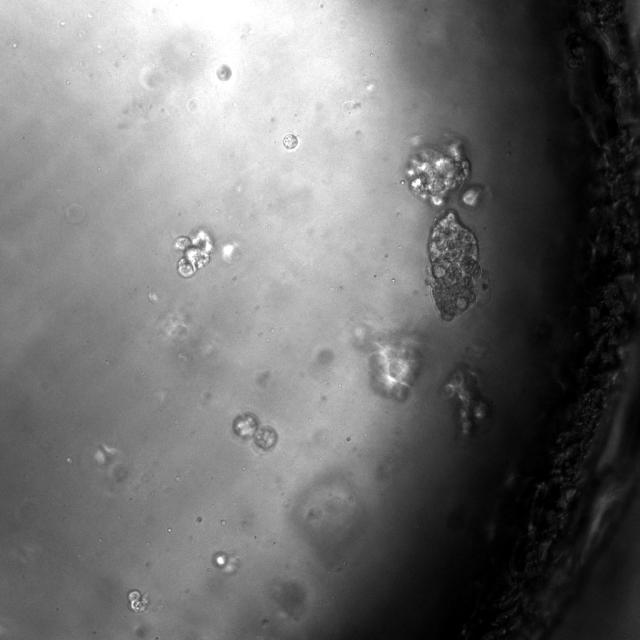organoid: (428, 209, 481, 319), (405, 138, 484, 207), (369, 336, 423, 401), (444, 366, 491, 436), (231, 410, 278, 451), (174, 230, 212, 277), (212, 551, 239, 574), (128, 589, 148, 612), (282, 133, 298, 150), (216, 64, 231, 81)
